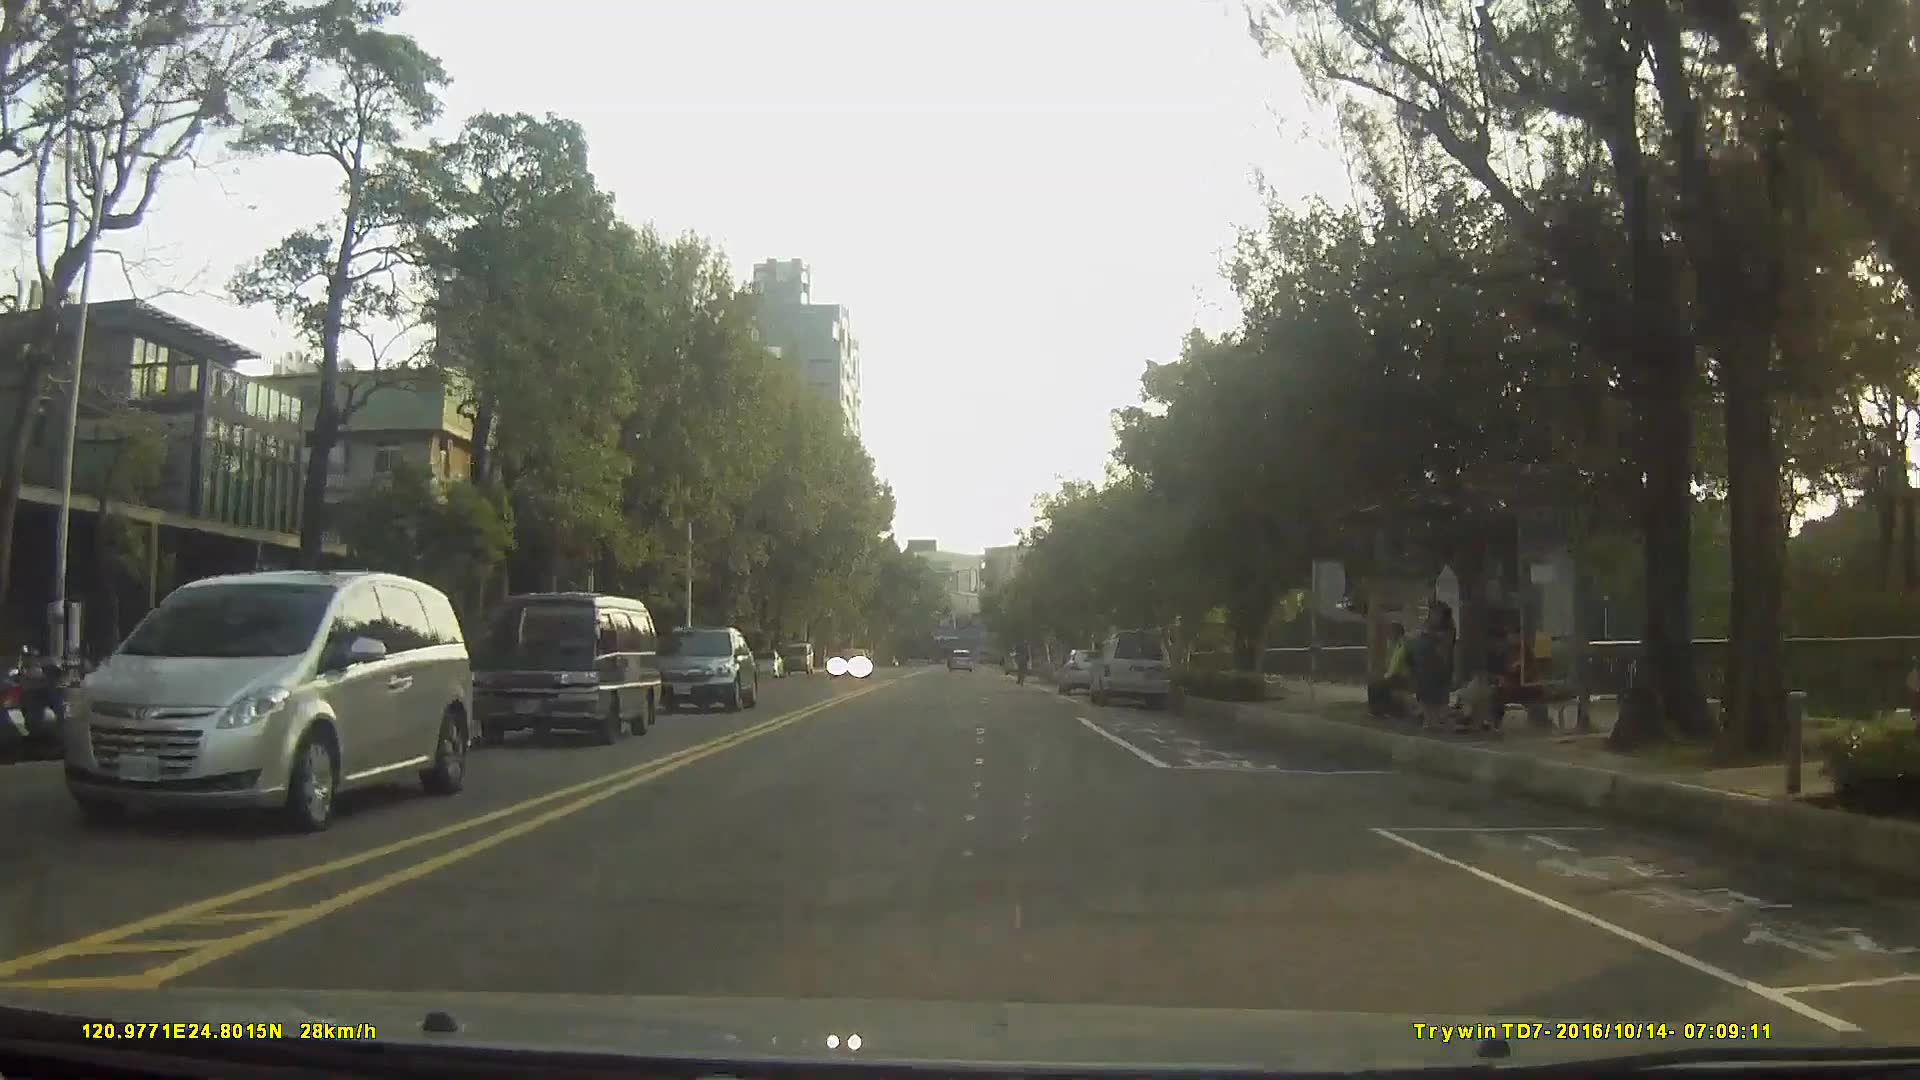pedestrian: (1400, 597, 1464, 728), (1452, 623, 1513, 731), (1369, 619, 1420, 717)
rider: (1013, 632, 1033, 691)
vehicle: (52, 562, 475, 840), (466, 586, 661, 743), (648, 626, 757, 711), (1083, 628, 1173, 706), (1059, 643, 1116, 694), (827, 644, 874, 678), (781, 639, 815, 673), (746, 646, 781, 678), (946, 645, 973, 670)
